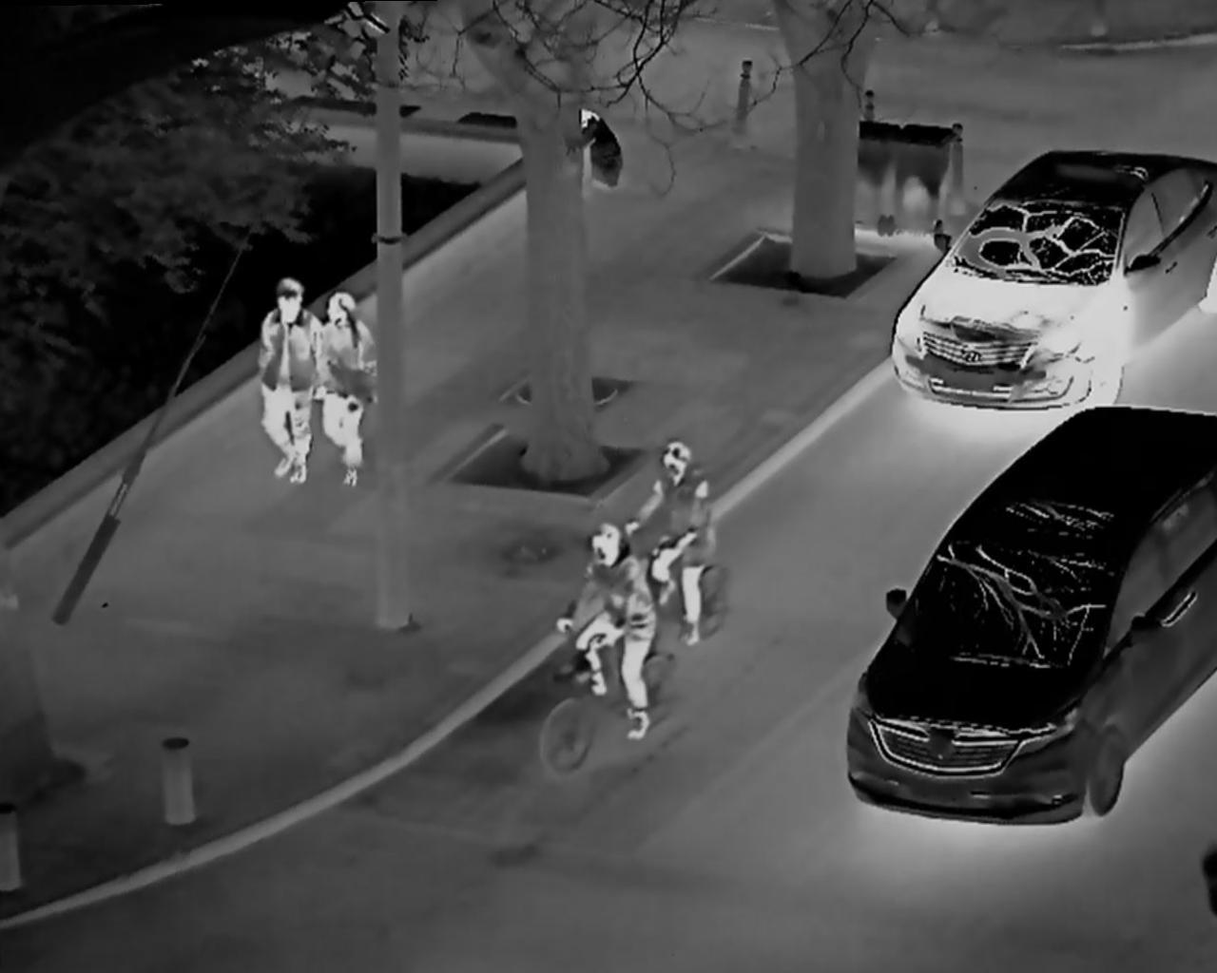person: (555, 517, 656, 760), (626, 428, 728, 655), (244, 259, 323, 506), (310, 286, 385, 494)
